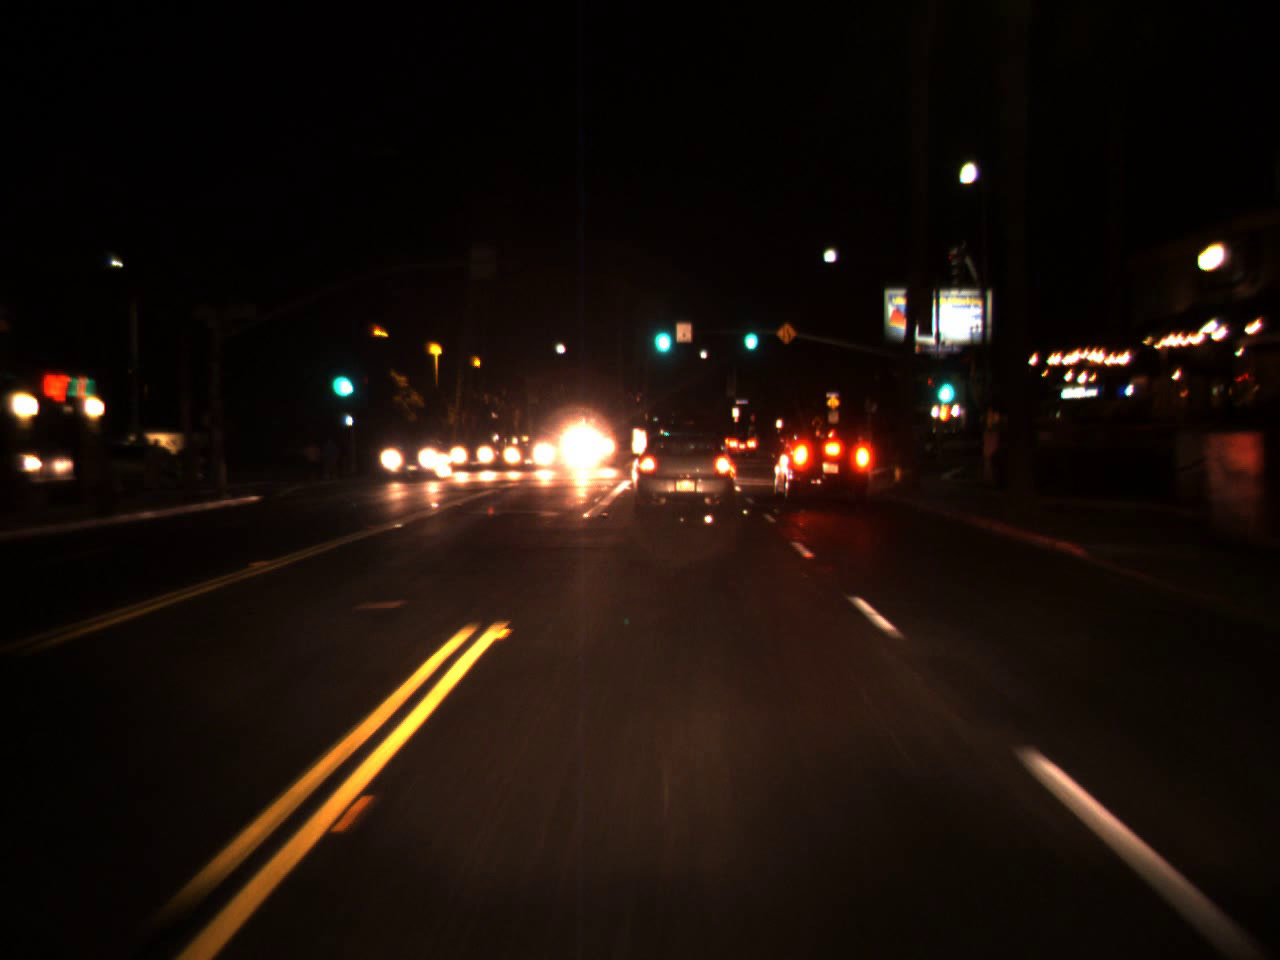go: (327, 351, 352, 405), (649, 307, 674, 361), (933, 366, 954, 405), (740, 313, 759, 355)
